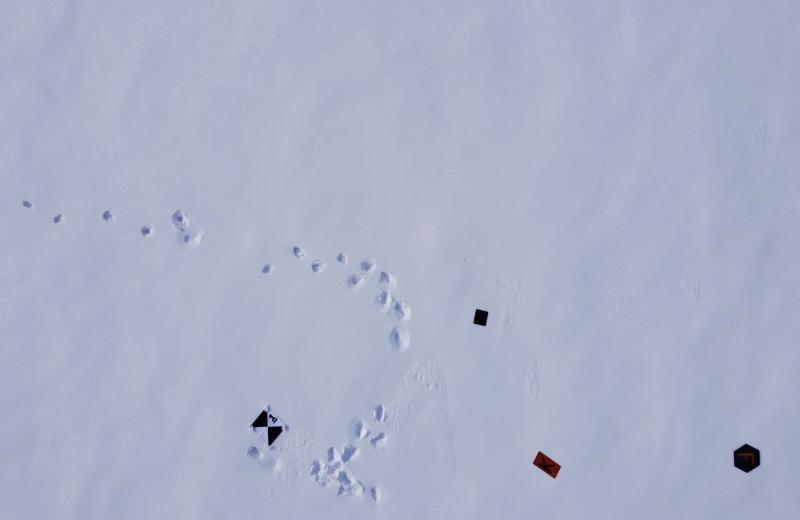Hexagon: (733, 439, 761, 472)
Rectangle: (531, 449, 563, 477)
Square: (472, 308, 491, 329)
